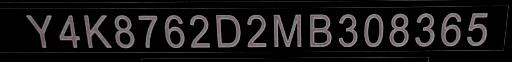letter: (270, 13, 304, 47), (82, 13, 114, 49), (212, 13, 242, 47), (24, 13, 54, 47), (56, 14, 82, 48), (112, 13, 136, 49), (308, 13, 332, 47), (162, 14, 186, 48), (466, 10, 488, 46), (388, 12, 410, 48), (440, 12, 462, 46), (362, 12, 384, 46), (136, 13, 158, 47), (188, 13, 210, 47), (246, 13, 268, 47), (414, 12, 434, 46), (338, 13, 358, 47)
